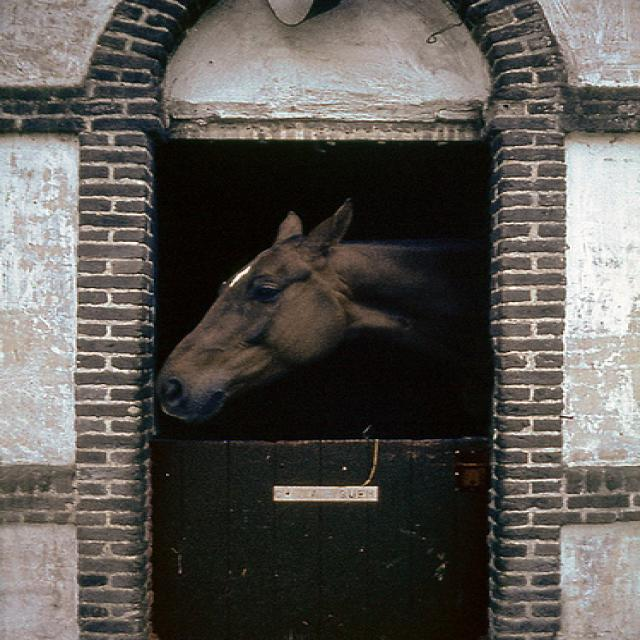horse: (153, 197, 484, 423)
